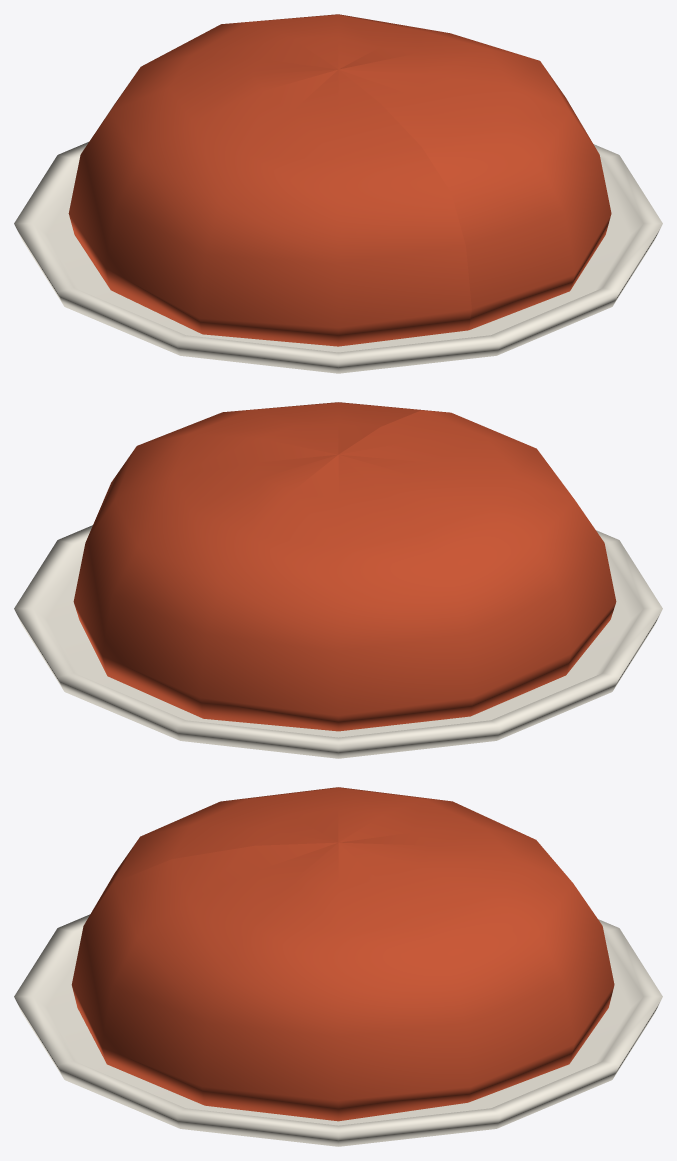
The model's file is SM_StickyRice.glb.
The picture shows the model from 3 angles, top to bottom: view 1: azimuth 30°, elevation 25°; view 2: azimuth 150°, elevation 25°; view 3: azimuth 270°, elevation 25°; orthographic projection.
Visible parts, largest first — view 1: SM_StickyRice_Loaf, SM_StickyRice_Plate; view 2: SM_StickyRice_Loaf, SM_StickyRice_Plate; view 3: SM_StickyRice_Loaf, SM_StickyRice_Plate.
Boxes of the visible parts, <box> form: SM_StickyRice_Loaf: <box>68,14,611,346</box>; SM_StickyRice_Plate: <box>14,142,662,373</box>; SM_StickyRice_Loaf: <box>73,402,616,731</box>; SM_StickyRice_Plate: <box>14,525,662,758</box>; SM_StickyRice_Loaf: <box>71,787,614,1121</box>; SM_StickyRice_Plate: <box>14,914,662,1146</box>.
Bounding box in the file's own units: 0.22 × 0.0684 × 0.22.
